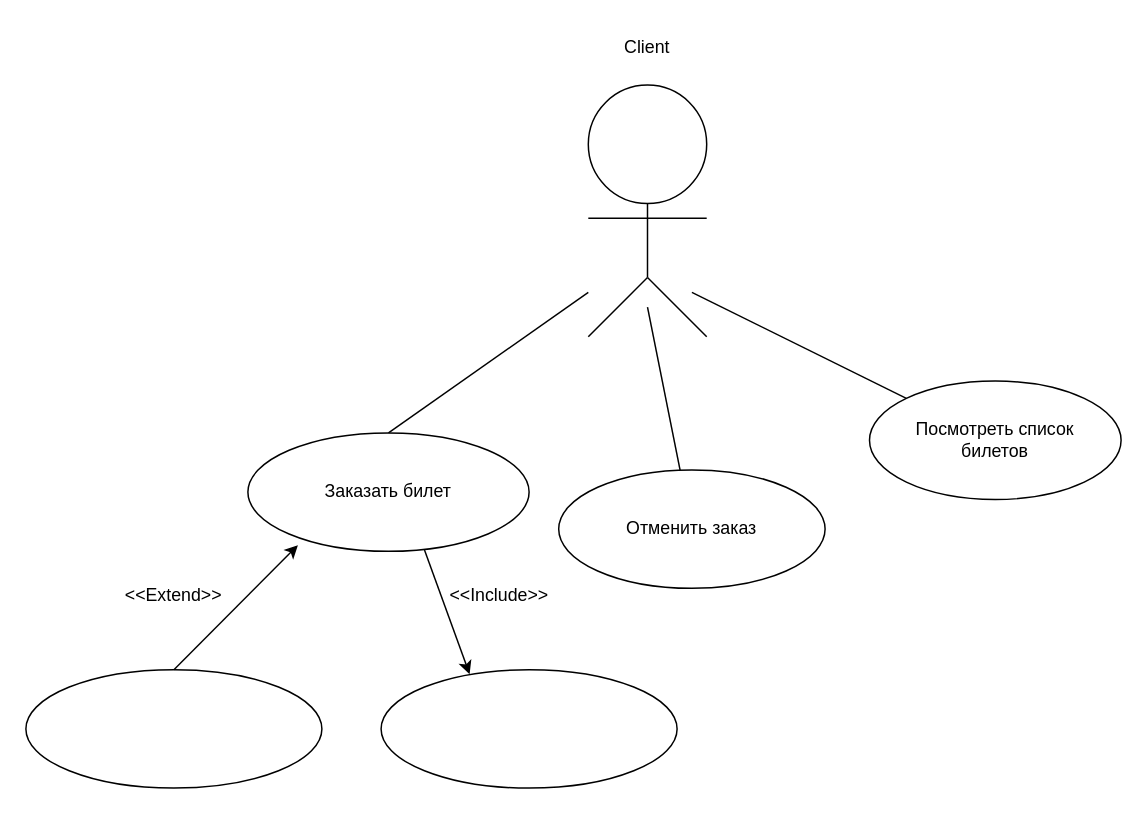
The diagram is 1147 pixels wide and 814 high, and some of its shapes have lost their labels. Each missing label, with the centre of its shape:
Указать наличие и вес багажа: (528,728)
Указать право на внеочередное обслуживание: (173,728)
